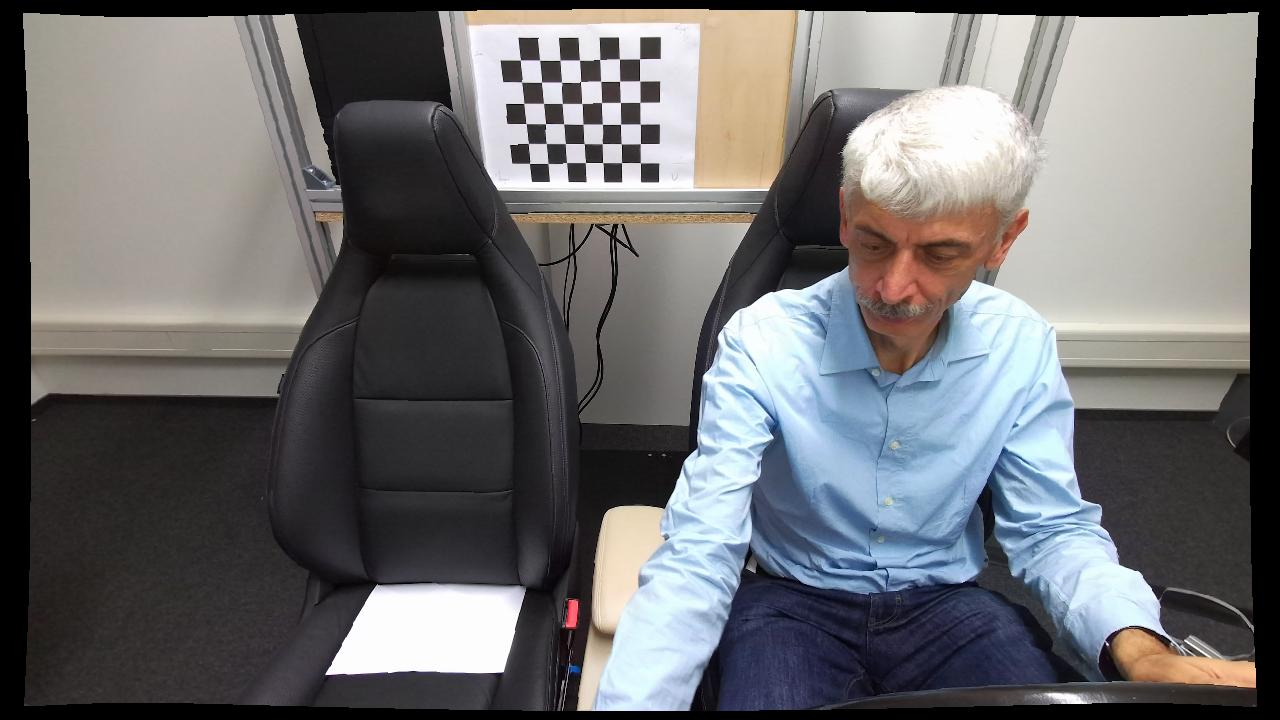Distracted: (591, 81, 1141, 710)
